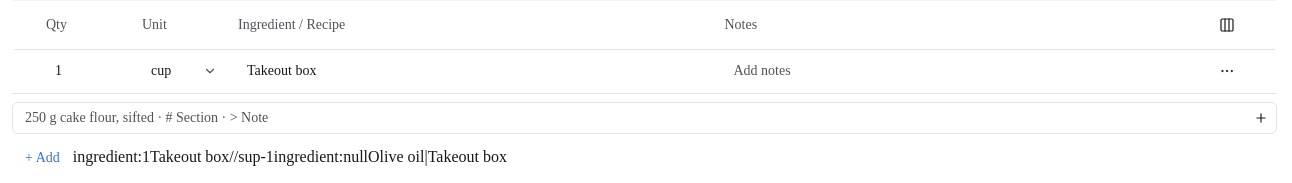
Test case: recipe items table catalog picker › keeps a line already on a supply
Focus the dropdown named "Ingredient or recipe" at [475, 71], box [238,55,712,87]
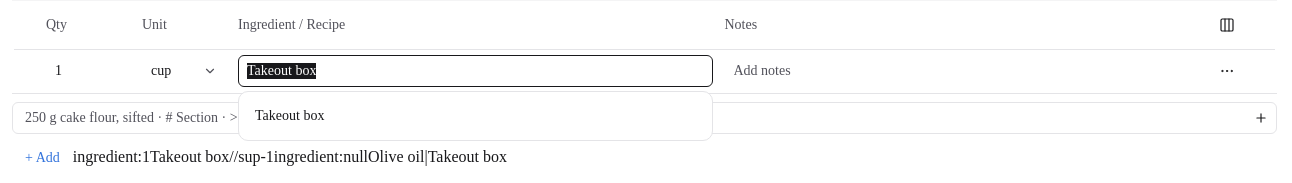
Expected: the options read "Takeout box", in this order, [245,98,706,134]
